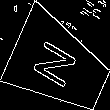N_SE: (32, 36, 87, 94)
